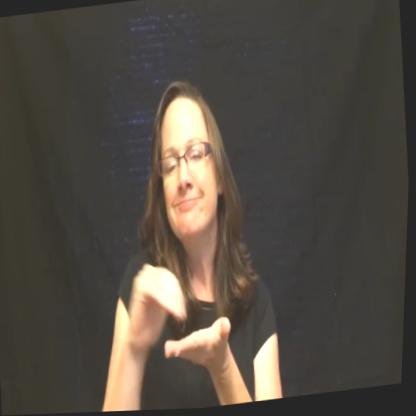ExcuseMe: (107, 223, 255, 397)
